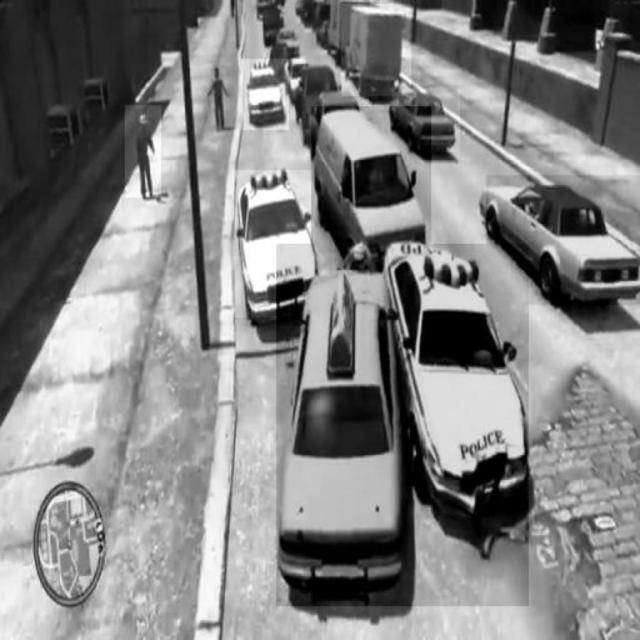accident: (276, 244, 528, 606)
person: (125, 105, 161, 197), (198, 60, 235, 133)
vehicle: (486, 176, 640, 306), (311, 107, 431, 247), (232, 170, 318, 318), (342, 4, 412, 96), (388, 88, 460, 152), (242, 59, 289, 130)
